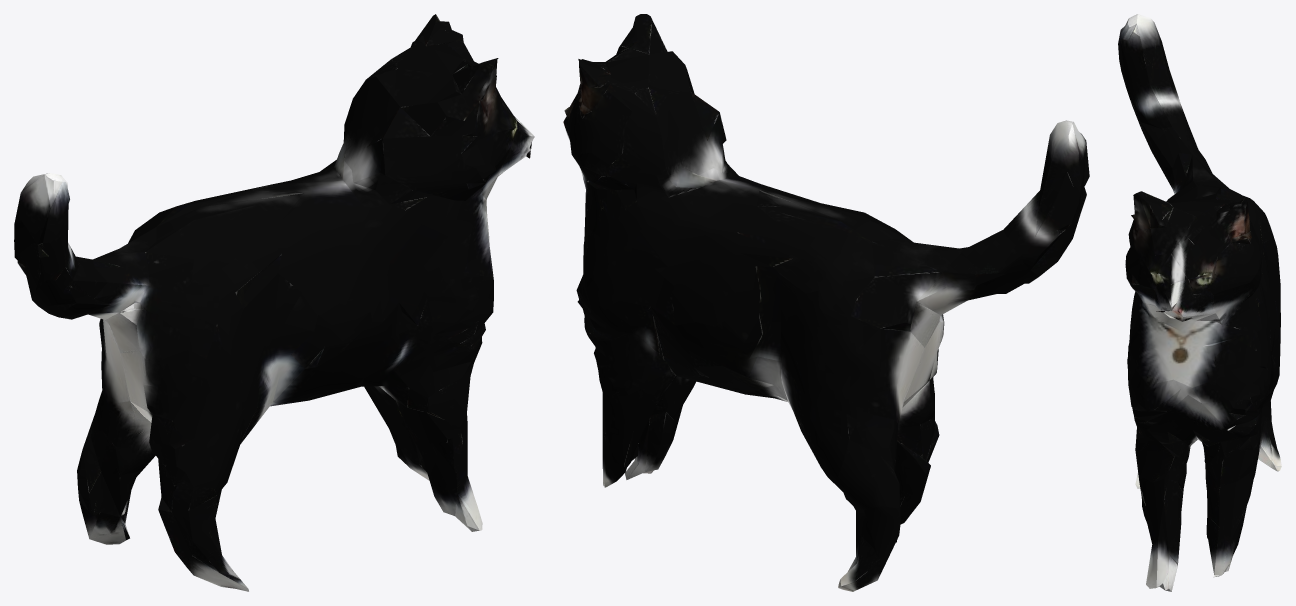
File: SEACAT-lo.glb
The picture shows the model from 3 angles, left to right: view 1: azimuth 30°, elevation 25°; view 2: azimuth 150°, elevation 25°; view 3: azimuth 270°, elevation 25°; orthographic projection. The views are drawn at different scales.
Parts seen in each view (by area): view 1: output_unwrapped; view 2: output_unwrapped; view 3: output_unwrapped.
Part boxes in pixels (left/top/right/bottom): output_unwrapped: left=14, top=14, right=534, bottom=591; output_unwrapped: left=563, top=14, right=1089, bottom=591; output_unwrapped: left=1118, top=14, right=1281, bottom=591.
Size of the model in its own units: 1.17 by 1 by 0.3725.
Materials: 1 (1 with a texture image).
